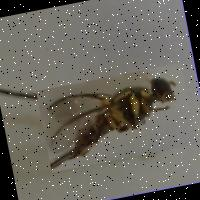Oriental-fruit-fly: (35, 63, 196, 173)
